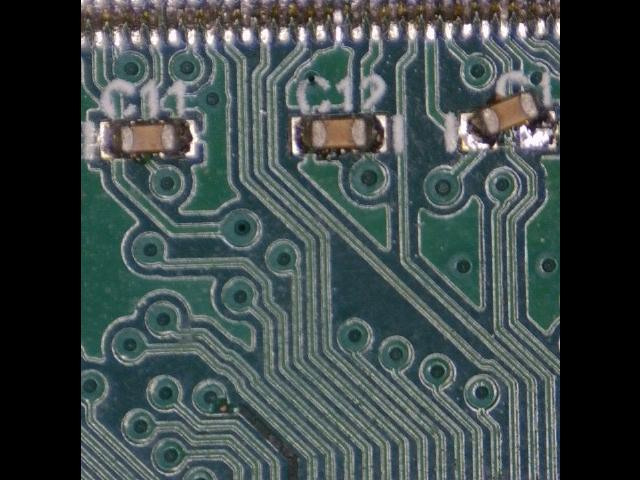Incorrect_installation: (461, 92, 557, 152)
